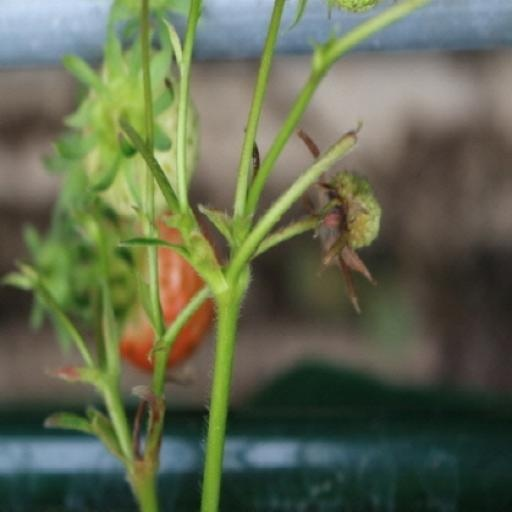Gray Mold: (298, 202, 382, 381)
